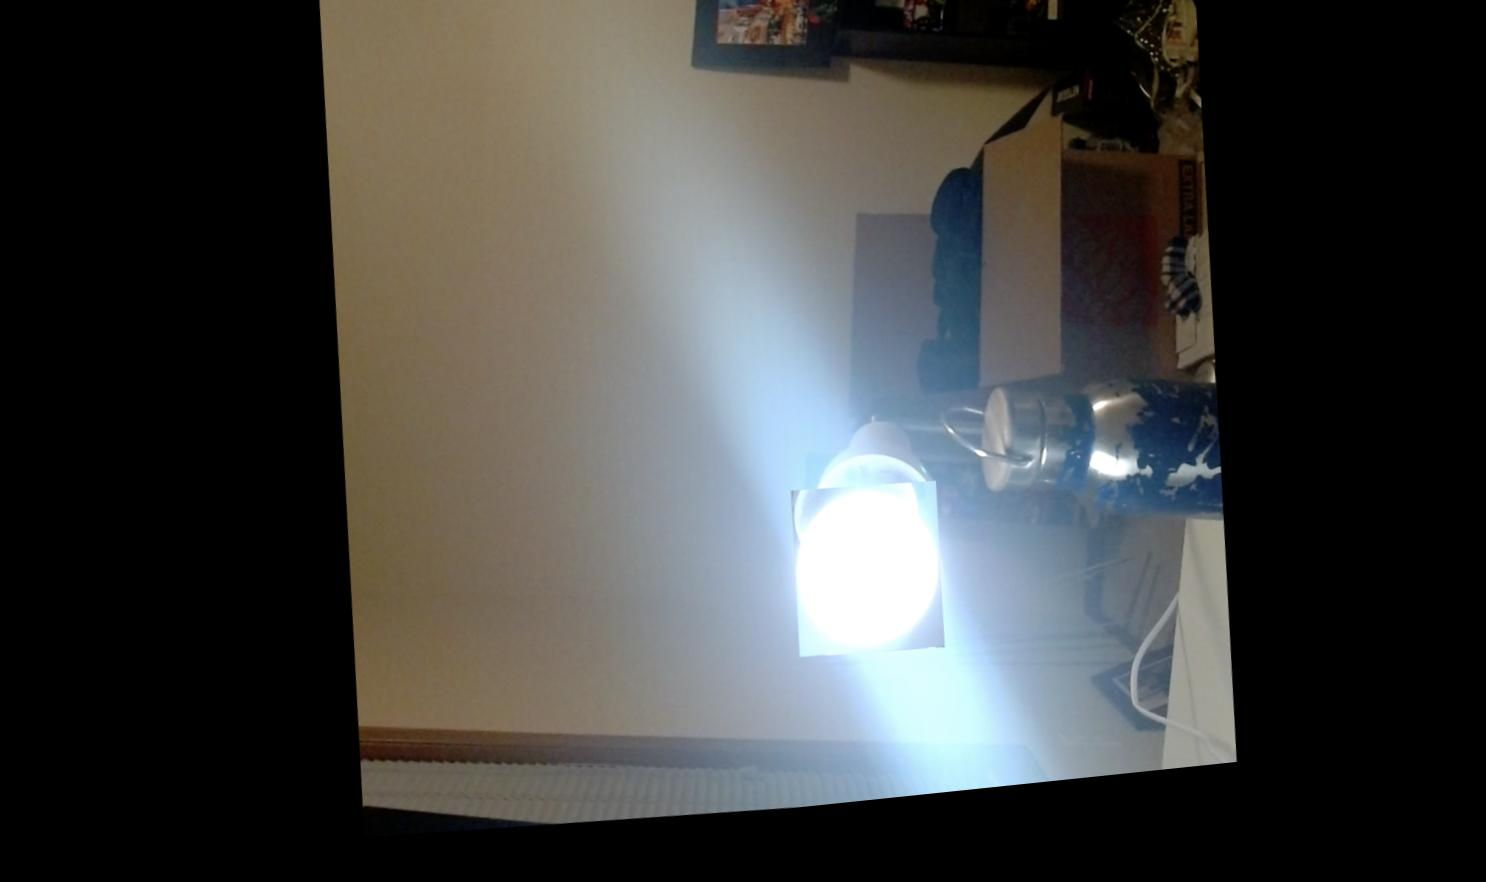TubeLight: (773, 493, 936, 677)
